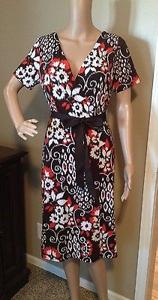C_dress: (10, 28, 142, 277)
